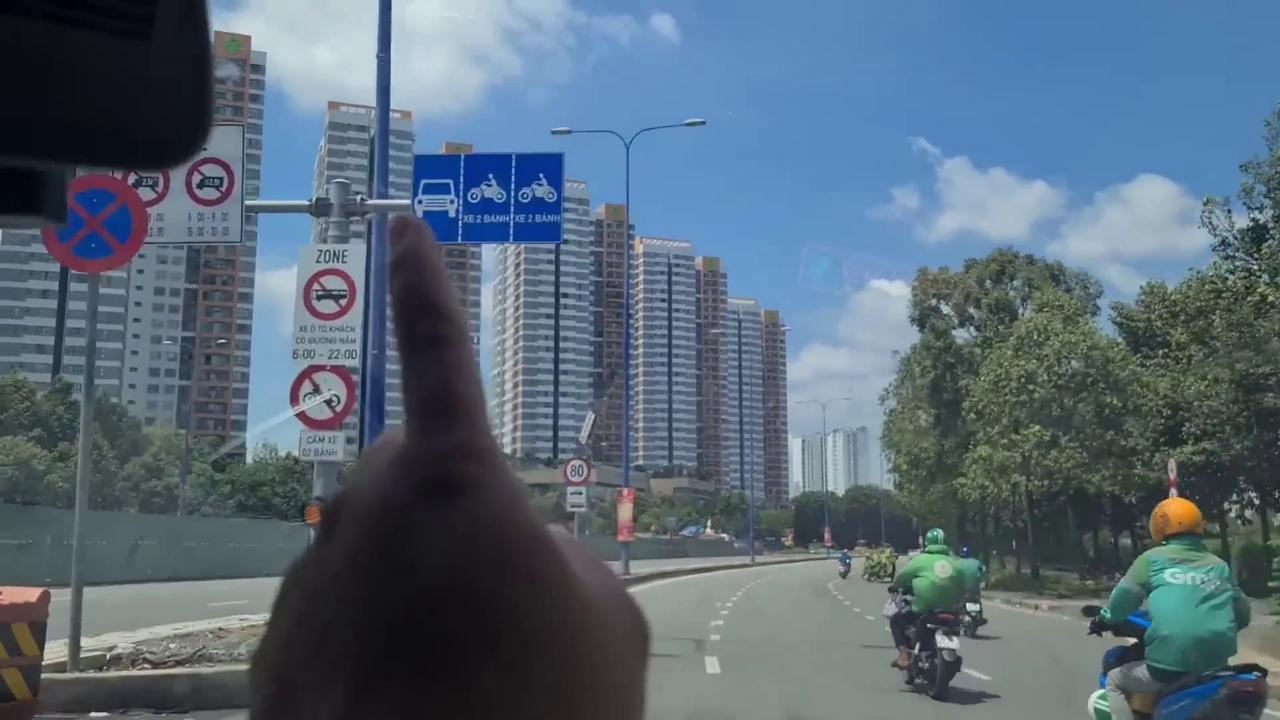Biển phụ: (297, 430, 345, 462), (566, 484, 588, 513)
Cấm cac phương tiện hoạt động trong khung giờ cố định: (68, 118, 245, 248), (291, 243, 364, 366)
Cấm dừng - Cấm đỗ: (38, 172, 150, 276)
Cấm xe máy: (287, 363, 357, 432)
Giới hạn tốc độ 80Km/h: (562, 454, 592, 484)
Làn đường cho từng xe: (412, 152, 564, 246)
